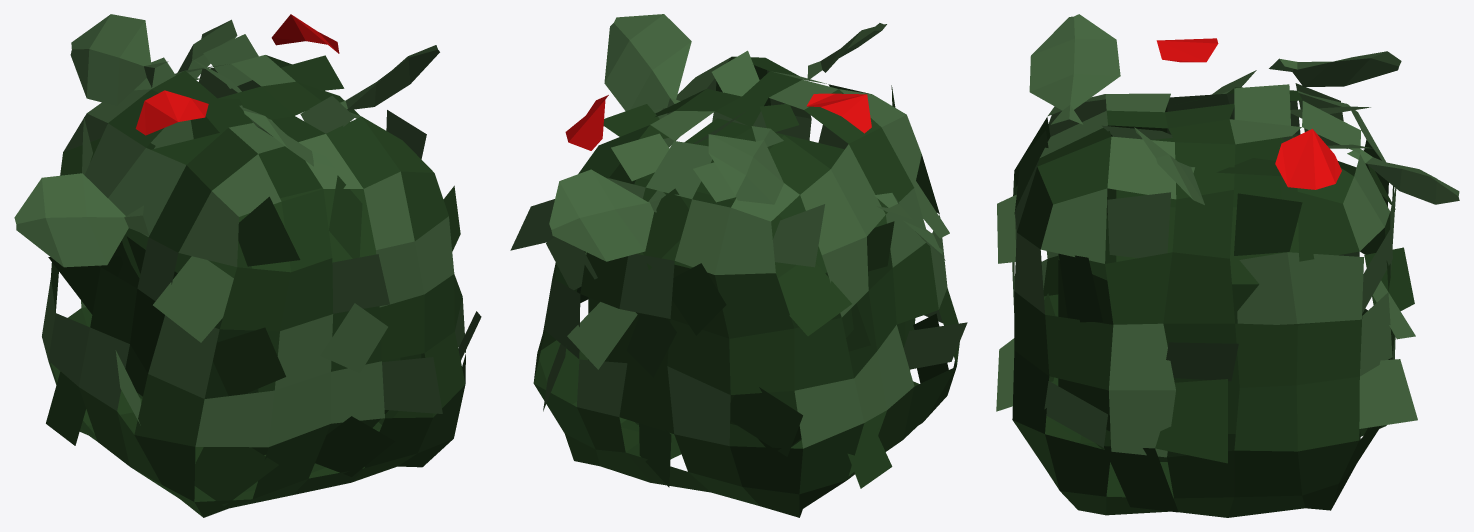
File: HedgeSmall.glb
The picture shows the model from 3 angles, left to right: view 1: azimuth 30°, elevation 25°; view 2: azimuth 150°, elevation 25°; view 3: azimuth 270°, elevation 25°; orthographic projection. The views are drawn at different scales.
Parts seen in each view (by area): view 1: HedgeSmall; view 2: HedgeSmall; view 3: HedgeSmall.
Boxes of the visible parts, x1,y1,x2,y2 form: HedgeSmall: (14,14,481,517); HedgeSmall: (510,14,967,517); HedgeSmall: (996,14,1459,517).
Bounding box in the file's own units: 2.56 × 2.44 × 2.46.
1 material, 1 textured.
